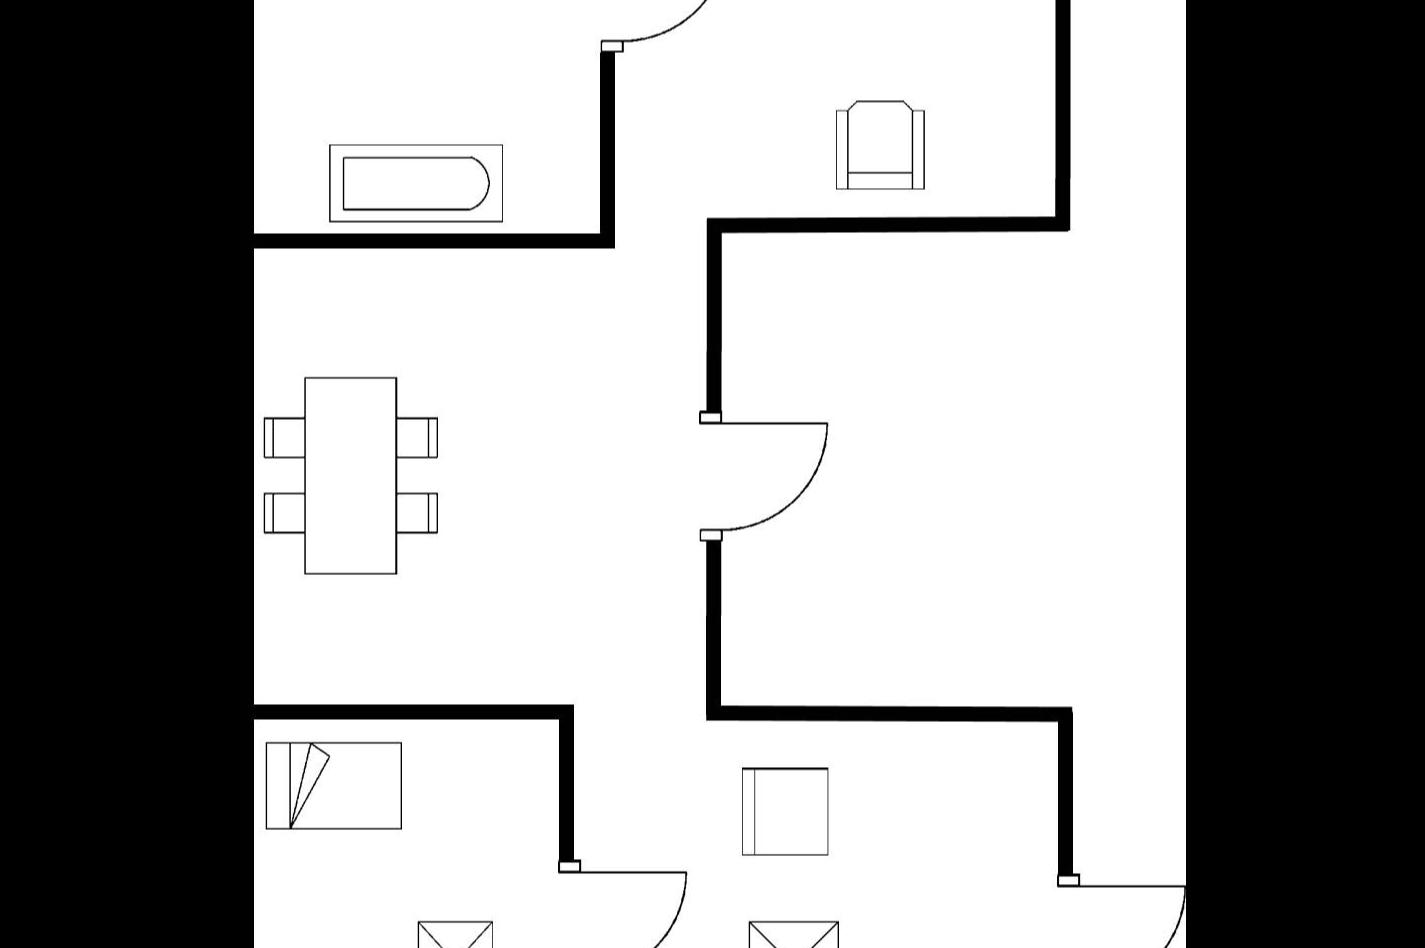bed: (260, 735, 408, 837)
dining_table: (258, 370, 443, 580)
tub: (324, 132, 510, 226)
